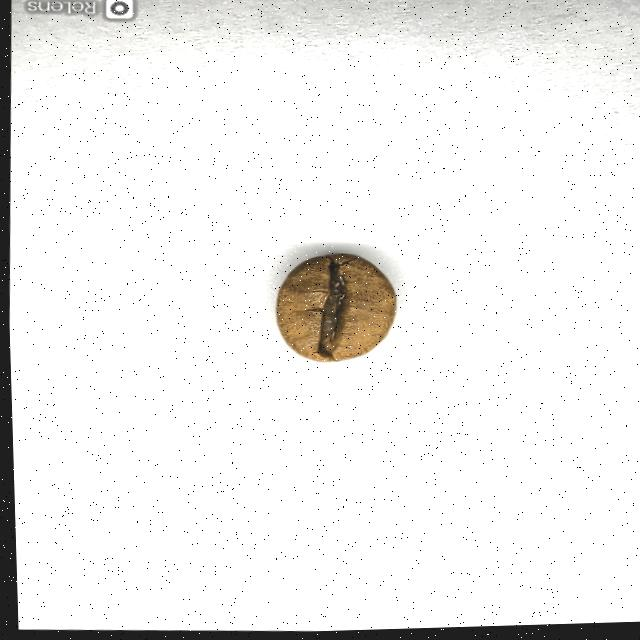Quaker: (272, 254, 396, 366)
